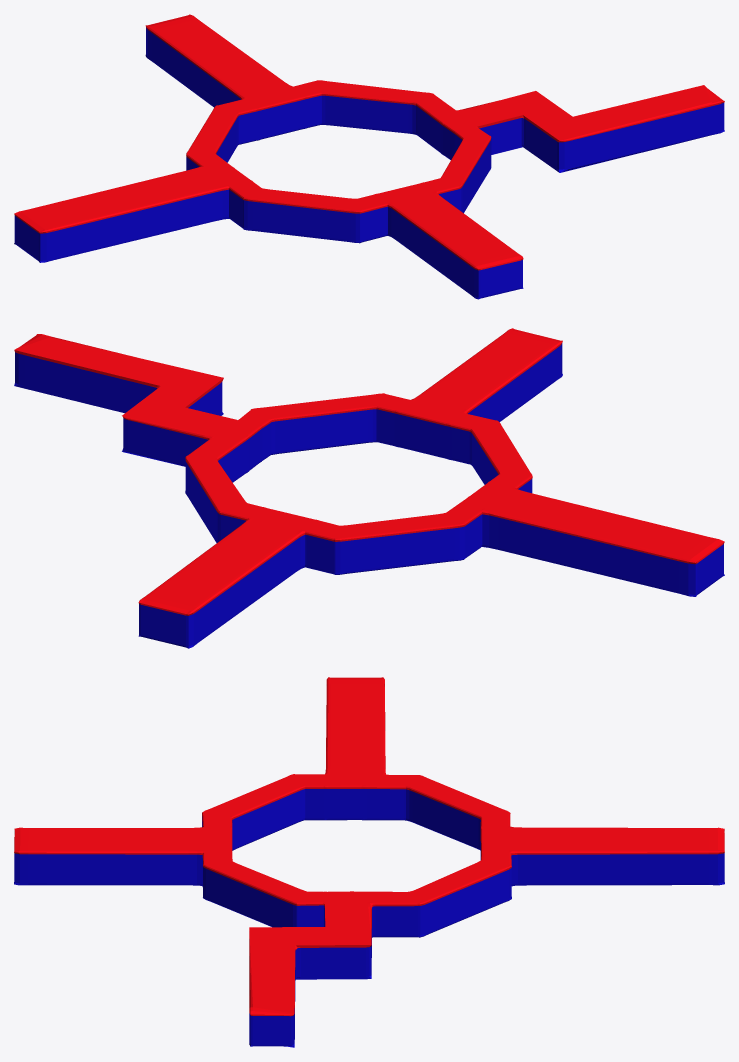
File: tapis 1.fbx
3 renders of one model, top to bottom at view 1: azimuth 30°, elevation 25°; view 2: azimuth 150°, elevation 25°; view 3: azimuth 270°, elevation 25°, orthographic. The views are drawn at different scales.
Visible parts, largest first — view 1: Cube.030; view 2: Cube.030; view 3: Cube.030.
Boxes of the visible parts, left/top/right/bottom form: Cube.030: left=14, top=14, right=724, bottom=299; Cube.030: left=14, top=328, right=724, bottom=648; Cube.030: left=14, top=677, right=724, bottom=1047.
Bounding box in the file's own units: 16357 × 777 × 14565.
